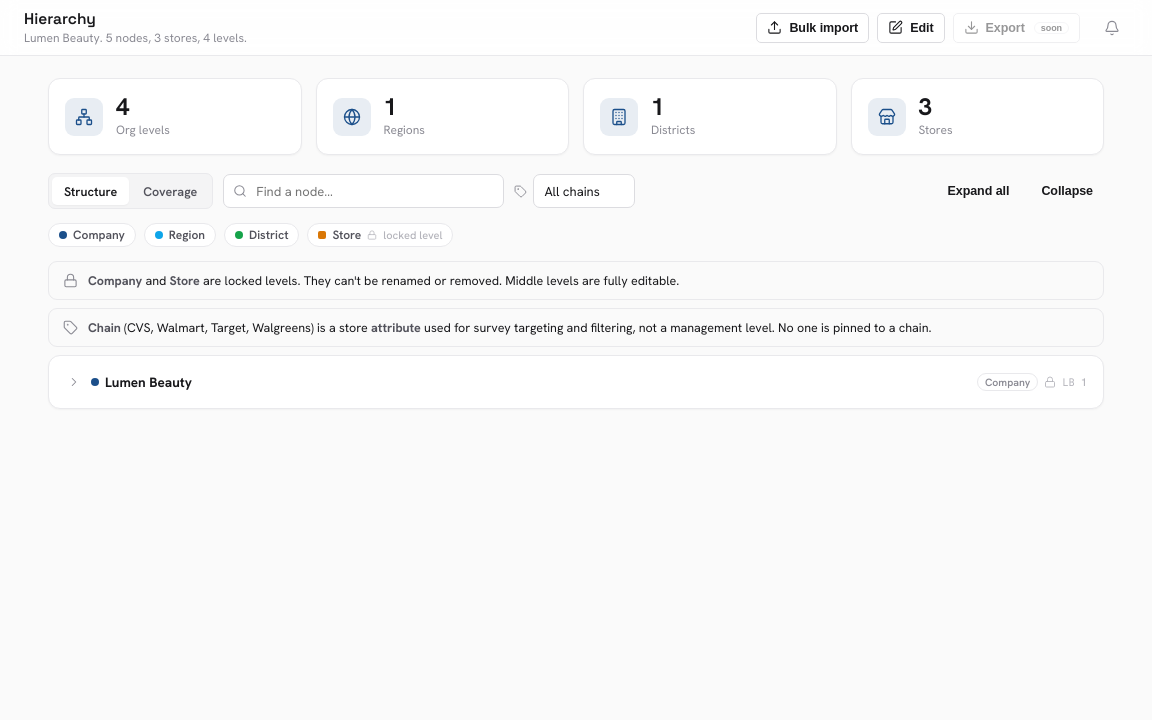
Hierarchy page › filters nodes by search query
The width and height of the screenshot is (1152, 720).
expect the text "Lumen Beauty" is shown: met, box [105, 373, 192, 391]
Expand all so stores are visible
Click the button "Expand all" at [978, 191], box [936, 176, 1020, 206]
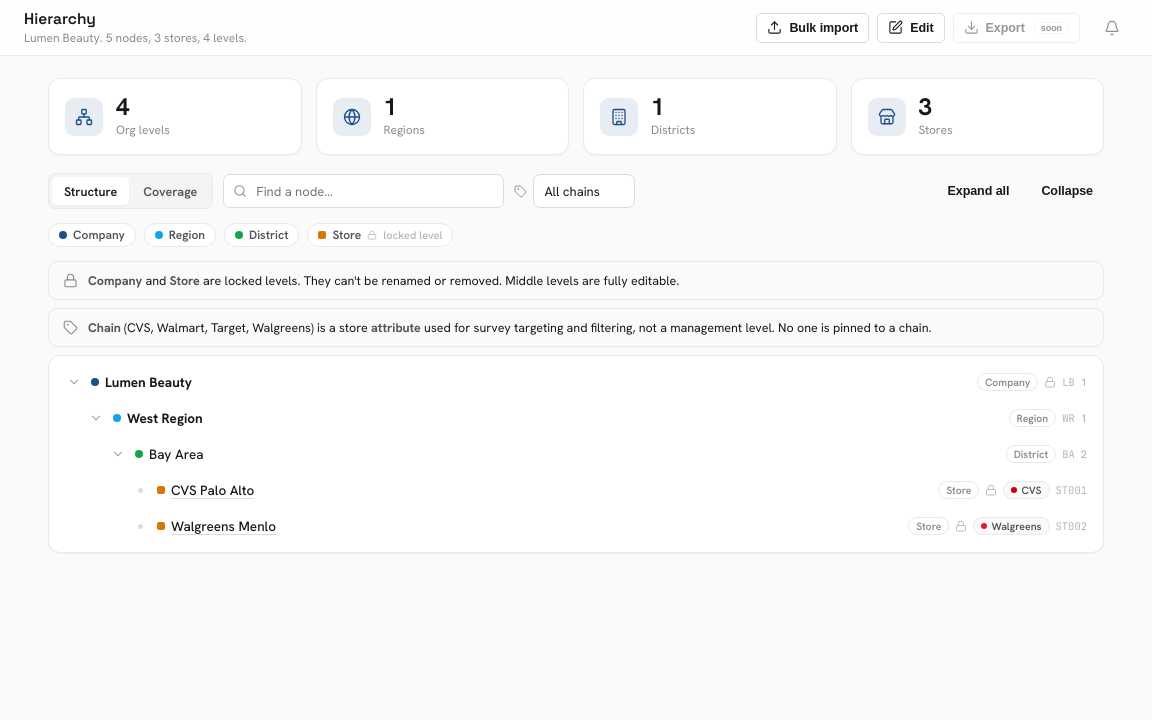
expect the button "CVS Palo Alto" is shown: met, box [171, 481, 932, 499]
Type "CVS" into the field with placeholder "Find a node…" at [364, 191], box [223, 174, 504, 208]
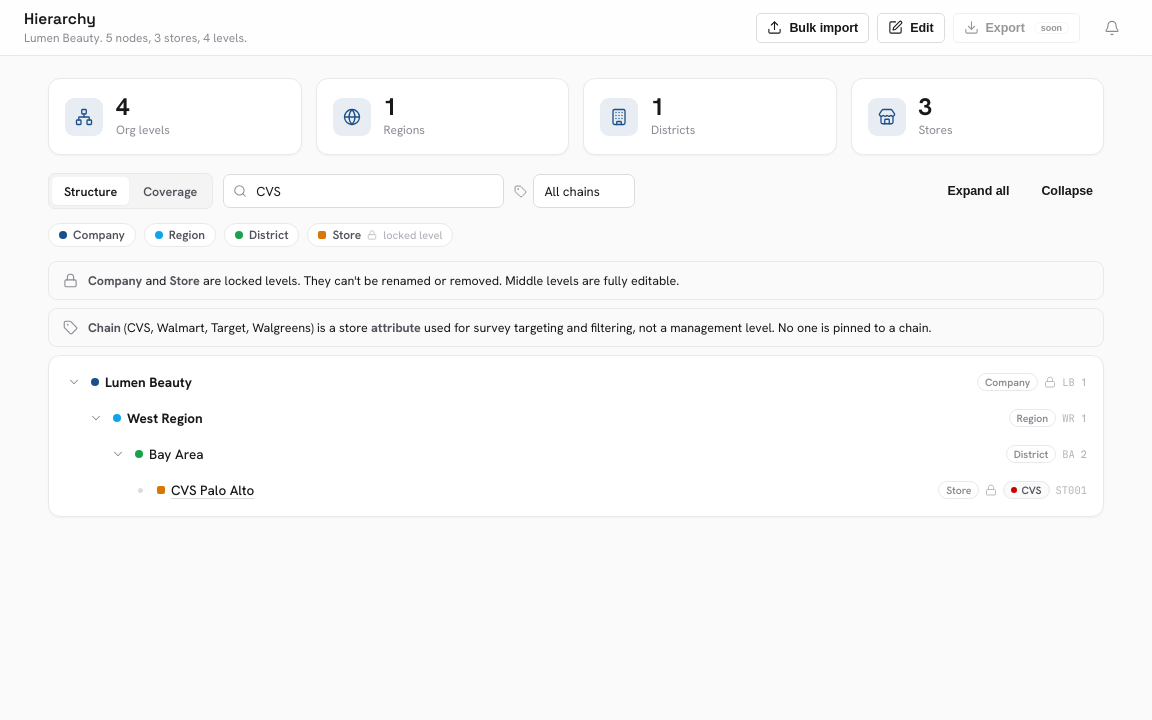
expect the button "CVS Palo Alto" is shown: met, box [171, 481, 932, 499]
expect the button "Walgreens Menlo" is gone: met
